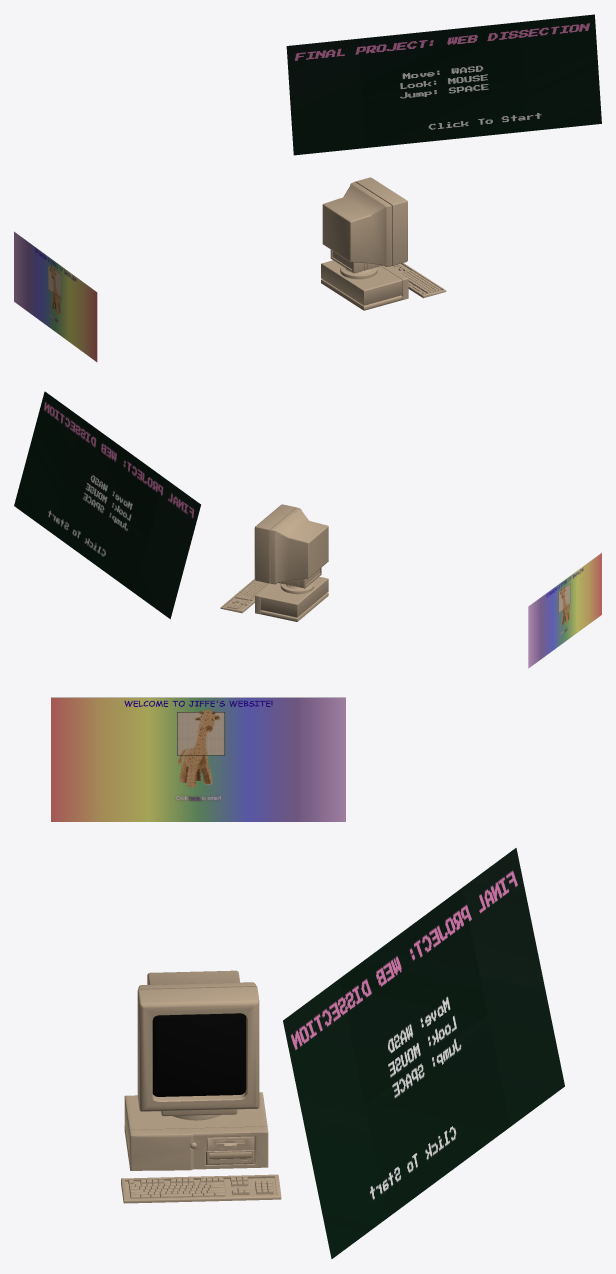
3 views of the same model, one above another, from view 1: azimuth 30°, elevation 25°; view 2: azimuth 150°, elevation 25°; view 3: azimuth 270°, elevation 25° (orthographic). The views are drawn at different scales.
Visible parts, largest first — view 1: startscreen, Monitor, website, ComputerTower, Keys; view 2: startscreen, Monitor, website, ComputerTower, Keys; view 3: startscreen, website, Monitor, ComputerTower, Keys, Keyboard.
Part boxes in pixels (left/top/right/bottom): startscreen: left=286, top=14, right=601, bottom=155; Monitor: left=322, top=177, right=407, bottom=266; website: left=14, top=231, right=97, bottom=361; ComputerTower: left=321, top=260, right=408, bottom=310; Keys: left=392, top=264, right=441, bottom=294; startscreen: left=14, top=391, right=200, bottom=619; Monitor: left=254, top=504, right=328, bottom=584; website: left=528, top=553, right=601, bottom=668; ComputerTower: left=255, top=576, right=328, bottom=621; Keys: left=227, top=580, right=268, bottom=609; startscreen: left=283, top=848, right=564, bottom=1258; website: left=51, top=697, right=345, bottom=821; Monitor: left=137, top=970, right=259, bottom=1111; ComputerTower: left=124, top=1092, right=268, bottom=1170; Keys: left=128, top=1177, right=273, bottom=1198; Keyboard: left=121, top=1174, right=281, bottom=1203.
Bounding box in the file's own units: 824 × 266 × 355.
10 materials, 2 textured.
